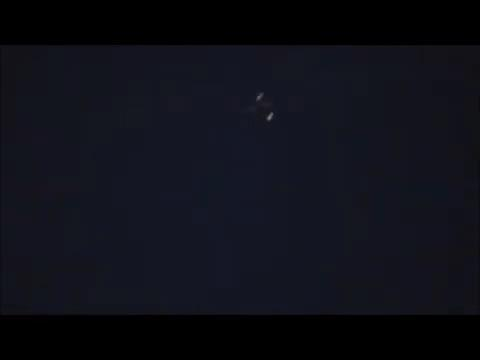Plane: (224, 81, 295, 131)
